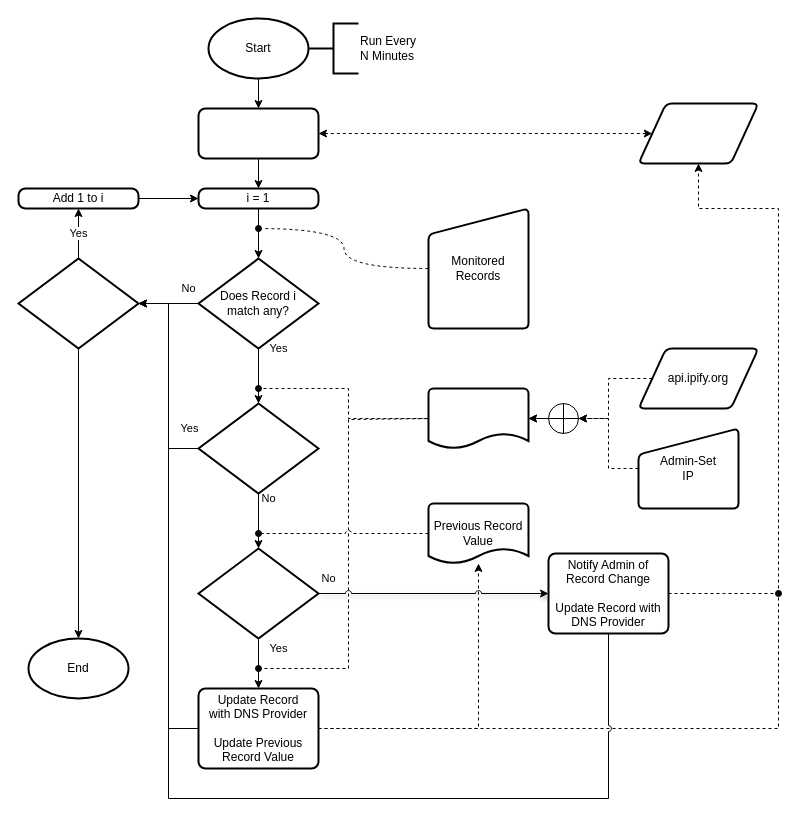
Image size: 804x817. Some labels were removed from this diagram. Here are the shapes that lost their labels. From the top down, the centre of each, then its label:
At point (258, 133): "Get DNS Records".
At point (698, 133): "DNS Provider API".
At point (78, 303): "More items in Records List?".
At point (478, 418): "Source of Truth".
At point (258, 448): "Record Data Match SoT?".
At point (258, 593): "Record Data Match Previous?".
